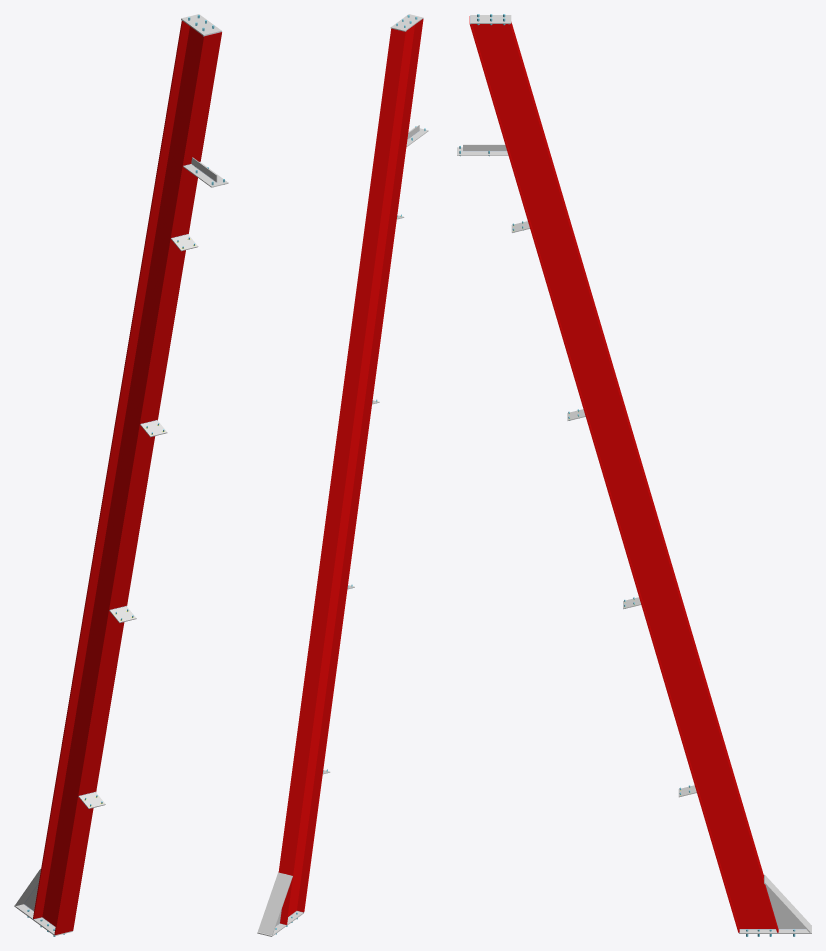
File: ass_4.gltf
The picture shows the model from 3 angles, left to right: view 1: azimuth 30°, elevation 25°; view 2: azimuth 150°, elevation 25°; view 3: azimuth 270°, elevation 25°; orthographic projection. The views are drawn at different scales.
Visible parts, largest first — view 1: 4+A 107874 IPE330 RAFTER S235JR; view 2: 4+A 107874 IPE330 RAFTER S235JR, 1015 112263 PL10x160 PLATE S235JR; view 3: 4+A 107874 IPE330 RAFTER S235JR.
Boxes of the visible parts, left/top/right/bottom form: 4+A 107874 IPE330 RAFTER S235JR: left=33, top=21, right=221, bottom=934; 4+A 107874 IPE330 RAFTER S235JR: left=278, top=19, right=423, bottom=924; 1015 112263 PL10x160 PLATE S235JR: left=258, top=872, right=292, bottom=935; 4+A 107874 IPE330 RAFTER S235JR: left=469, top=16, right=778, bottom=932.
Bounding box in the file's own units: 164 × 8602 × 3015.
